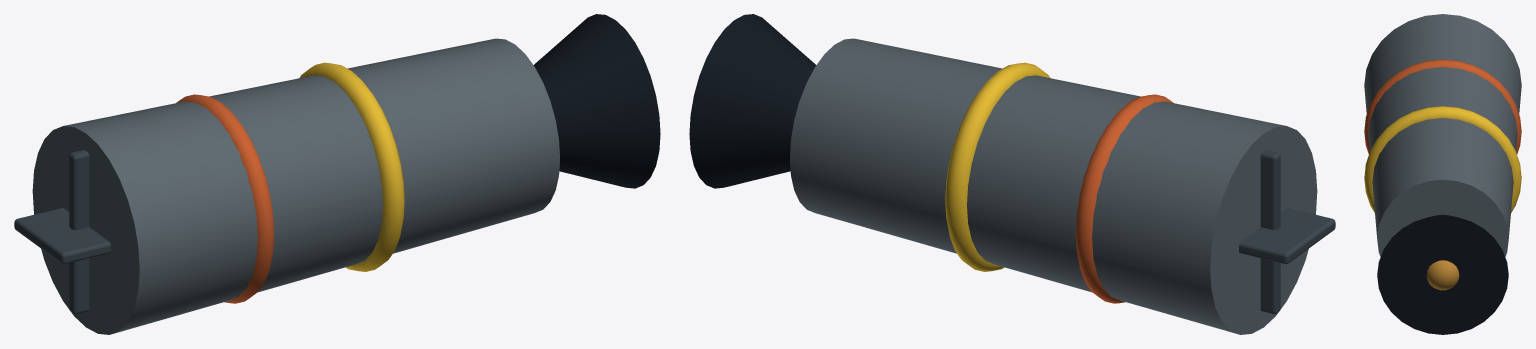
The picture shows the model from 3 angles, left to right: view 1: azimuth 30°, elevation 25°; view 2: azimuth 150°, elevation 25°; view 3: azimuth 270°, elevation 25°; orthographic projection. The views are drawn at different scales.
Bounding box in the file's own units: 4.26 × 1.34 × 1.34.
